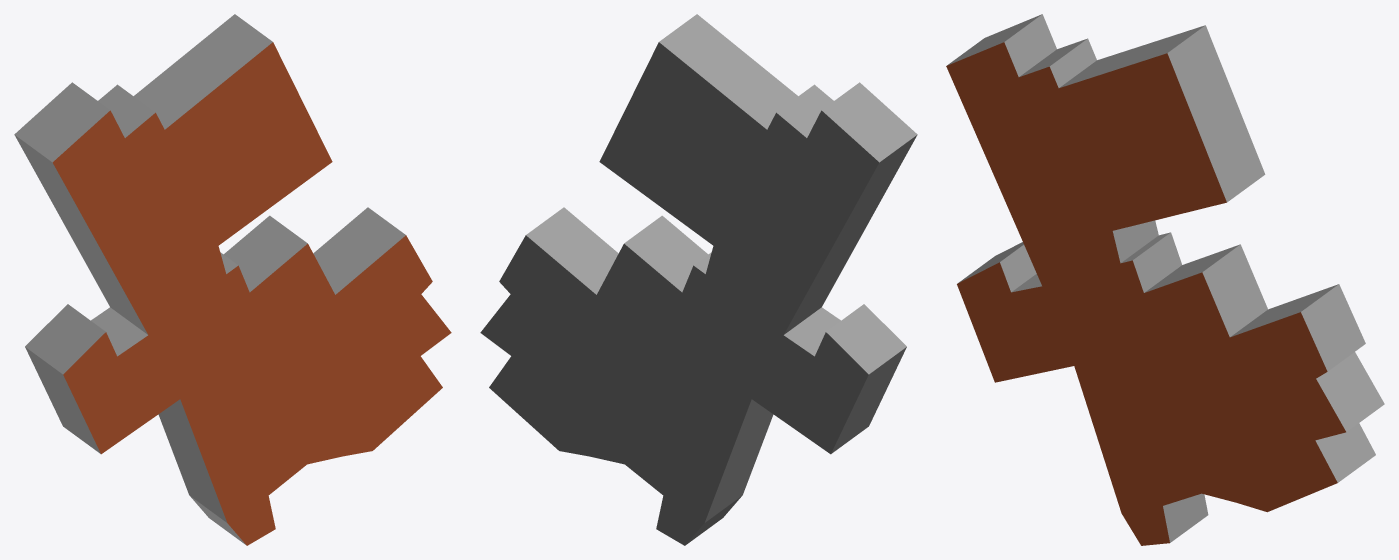
The model's file is construction_6785_assumed_A_Casa_h6m.obj.
3 views of the same model, side by side, from view 1: azimuth 30°, elevation 25°; view 2: azimuth 150°, elevation 25°; view 3: azimuth 330°, elevation 25° (orthographic).
Parts seen in each view (by area): view 1: construction_6785_assumed_A_Casa; view 2: construction_6785_assumed_A_Casa; view 3: construction_6785_assumed_A_Casa.
Part boxes in pixels (x1,y1,x2,y2): construction_6785_assumed_A_Casa: (14, 14, 451, 545); construction_6785_assumed_A_Casa: (480, 14, 917, 545); construction_6785_assumed_A_Casa: (946, 14, 1384, 545).
Size of the model in its own units: 36.16 by 43.08 by 6.
